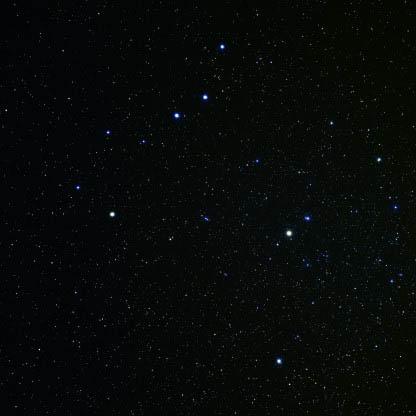Ursa Major: (163, 101, 186, 125), (214, 35, 233, 64), (96, 120, 118, 143), (66, 175, 87, 198), (199, 82, 214, 112), (105, 203, 125, 224)
